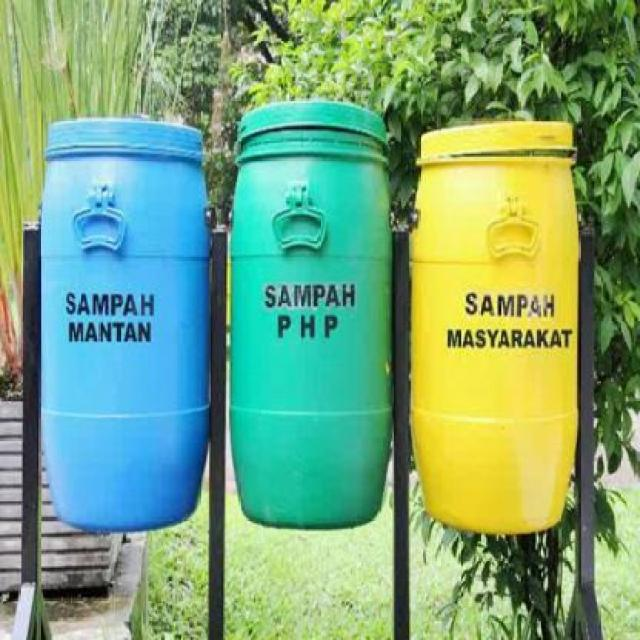garbage container: (223, 87, 405, 558), (34, 111, 215, 548), (403, 107, 583, 544)
